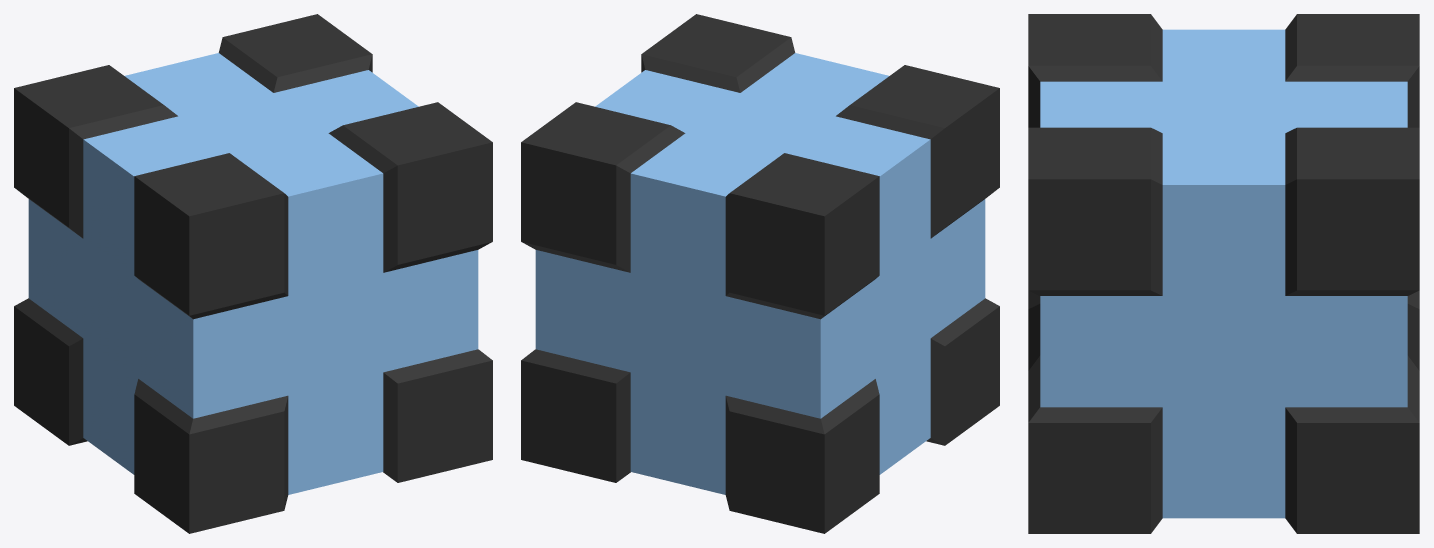
The model's file is BoxPlain.FBX.
3 views of the same model, side by side, from view 1: azimuth 30°, elevation 25°; view 2: azimuth 150°, elevation 25°; view 3: azimuth 270°, elevation 25° (orthographic). The views are drawn at different scales.
Visible parts, largest first — view 1: Box001; view 2: Box001; view 3: Box001.
Boxes of the visible parts, box(x1,y1,x2,y2) form: Box001: box(14, 14, 492, 533); Box001: box(521, 14, 999, 533); Box001: box(1028, 14, 1419, 533).
Bounding box in the file's own units: 12.57 × 12.57 × 12.57.
